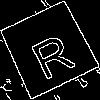R: (24, 24, 78, 81)
